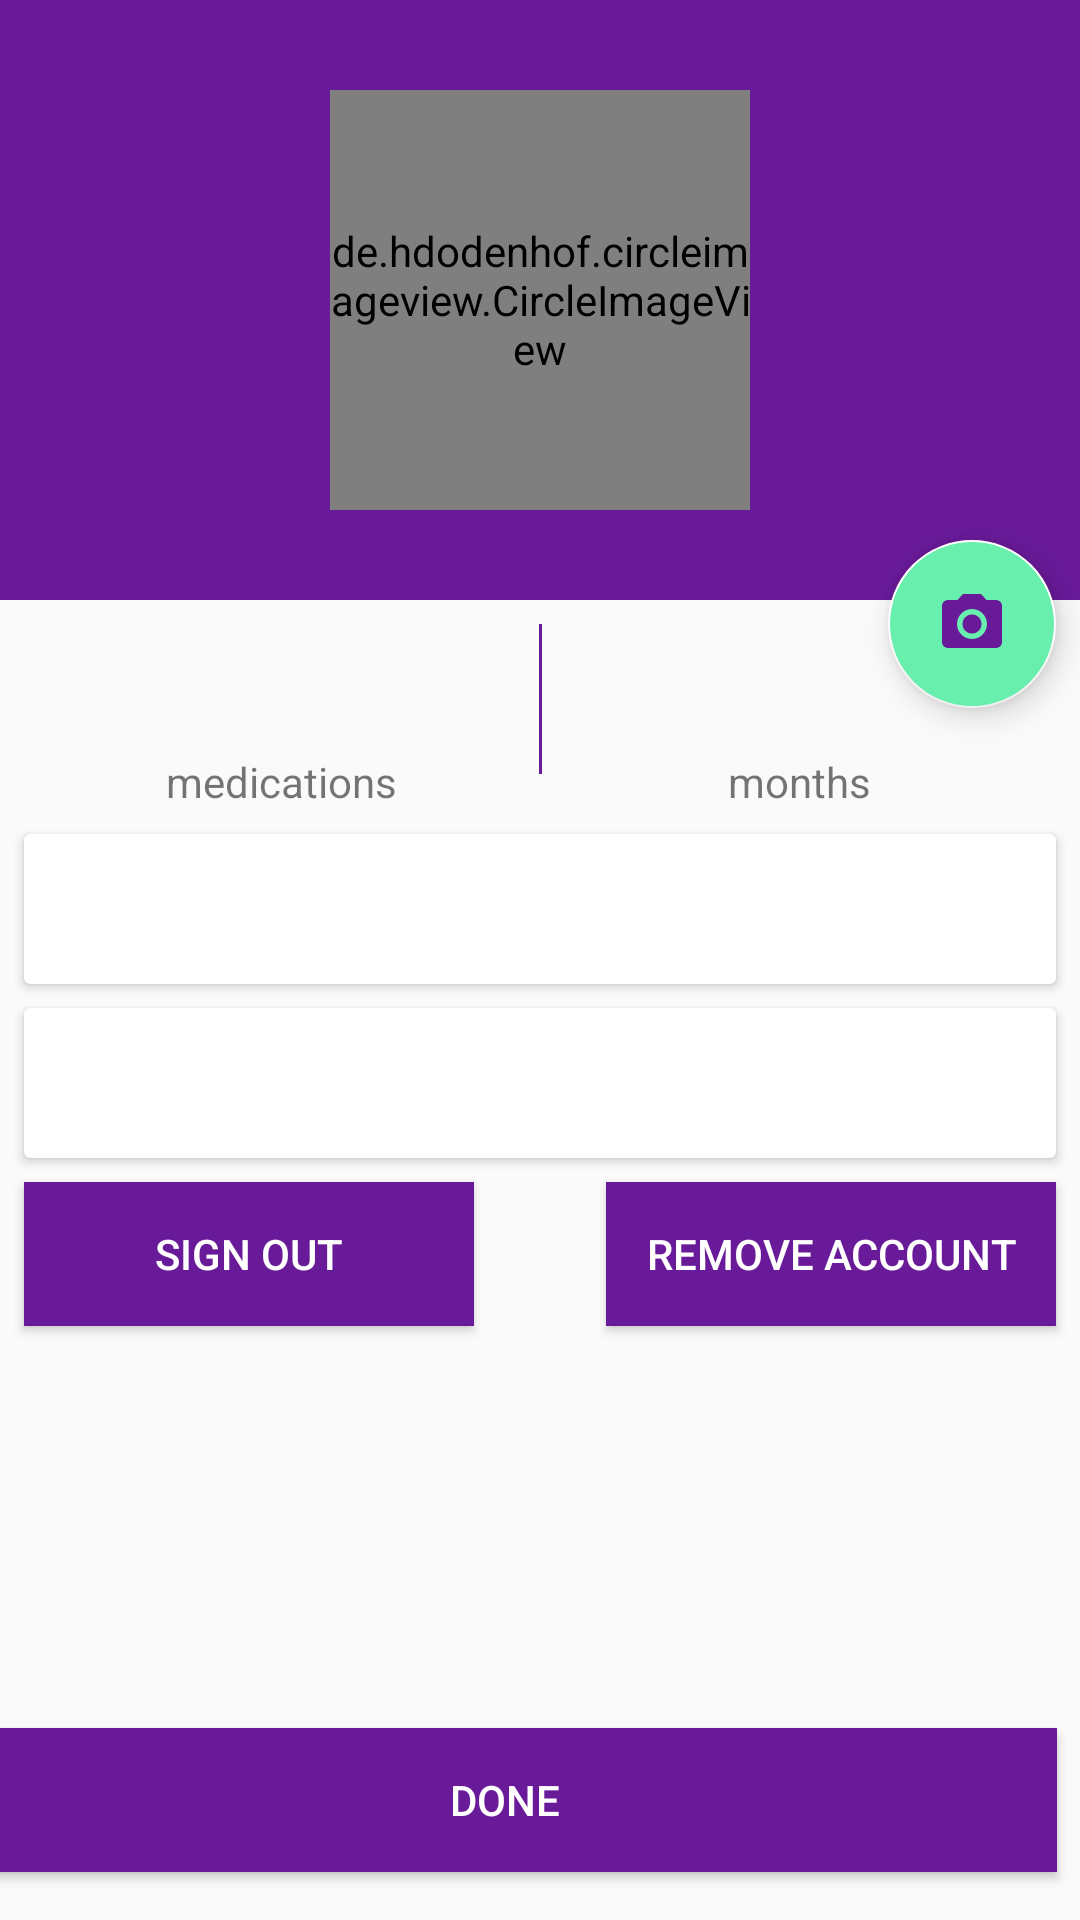

Icons on this 1080*1920 Android screen, each with the point to tap as (x,y):
camera: (972,624)
